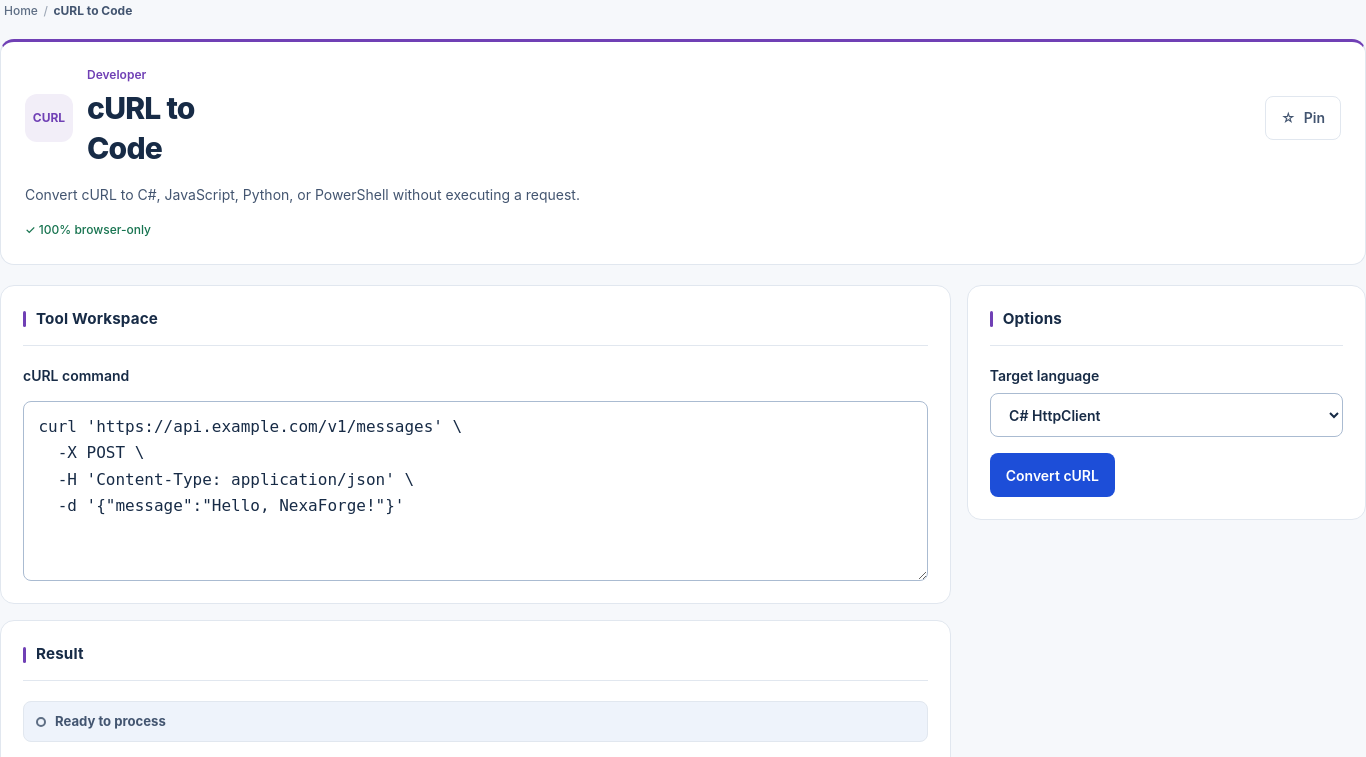
Scenario: CurlToCodePage › starts with a ready-to-convert POST JSON sample
Expected: the text box labelled "cURL command" holds "curl 'https://api.example.com/v1/messages' \\   -X POST \\   -H 'Content-Type: application/json' \\   -d '{\"message\":\"Hello, NexaForge!\"}'", x1=23 y1=401 x2=928 y2=581
Step 1. Click the button "Convert cURL" → click(1052, 475), box x1=990 y1=453 x2=1115 y2=497
(page scrolled)
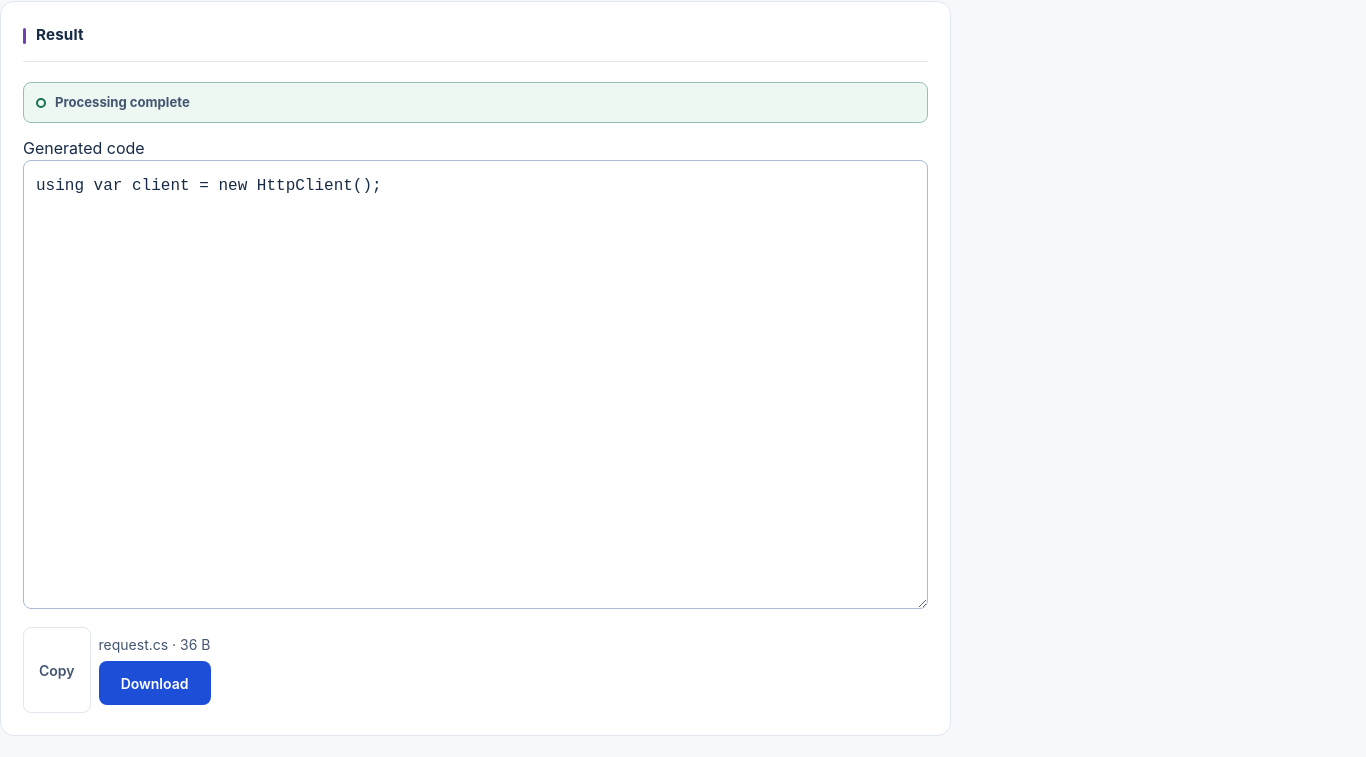
Result: the text box labelled "Generated code" holds "using var client = new HttpClient();" at x1=23 y1=160 x2=928 y2=609
